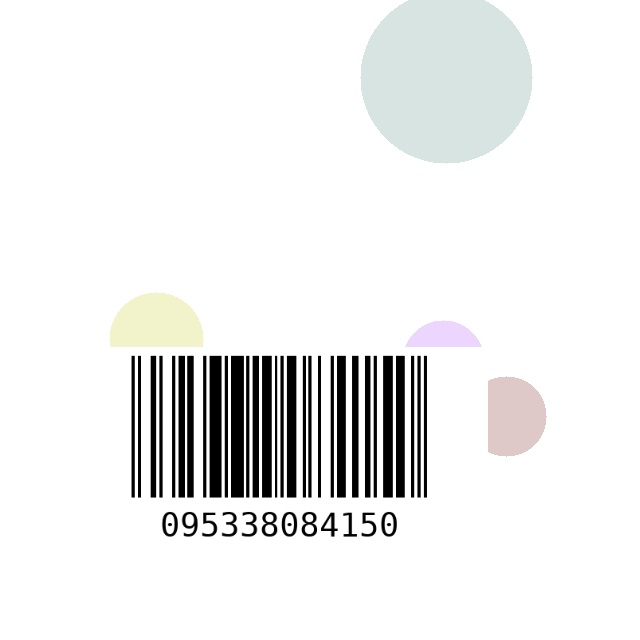barcode: (71, 347, 488, 570)
